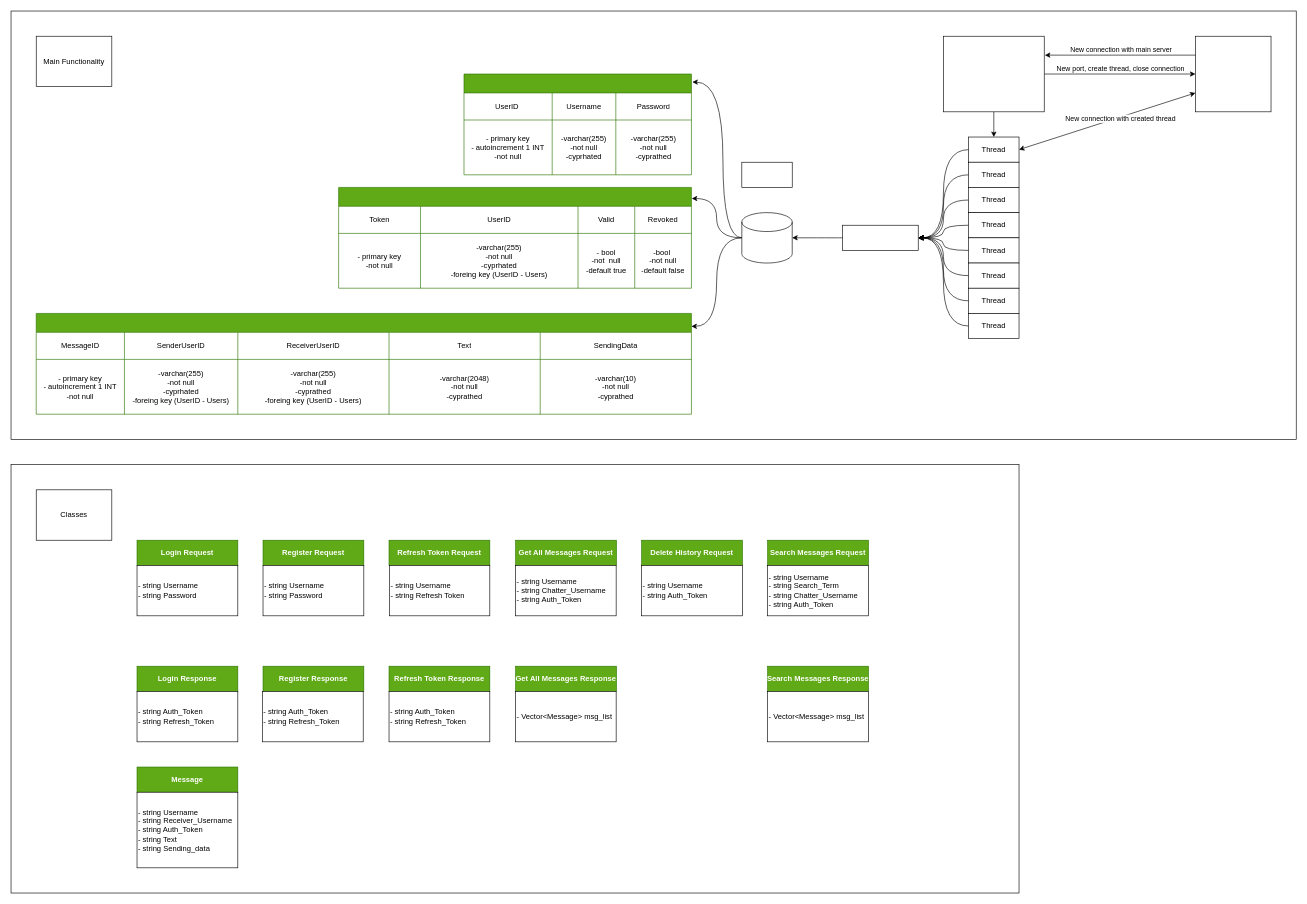
The diagram is 1307 pixels wide and 904 high, and some of its shapes have lost their labels. The box of each missing label's shape, as (x1, y1, x2, y2) in pixels:
client: (1195, 36, 1271, 112)
DB: (741, 162, 792, 187)
Messages: (36, 313, 691, 414)
my semaphore: (842, 225, 918, 250)
SRV: (943, 36, 1044, 112)
Tokens: (338, 187, 691, 288)
Users: (463, 73, 691, 175)
